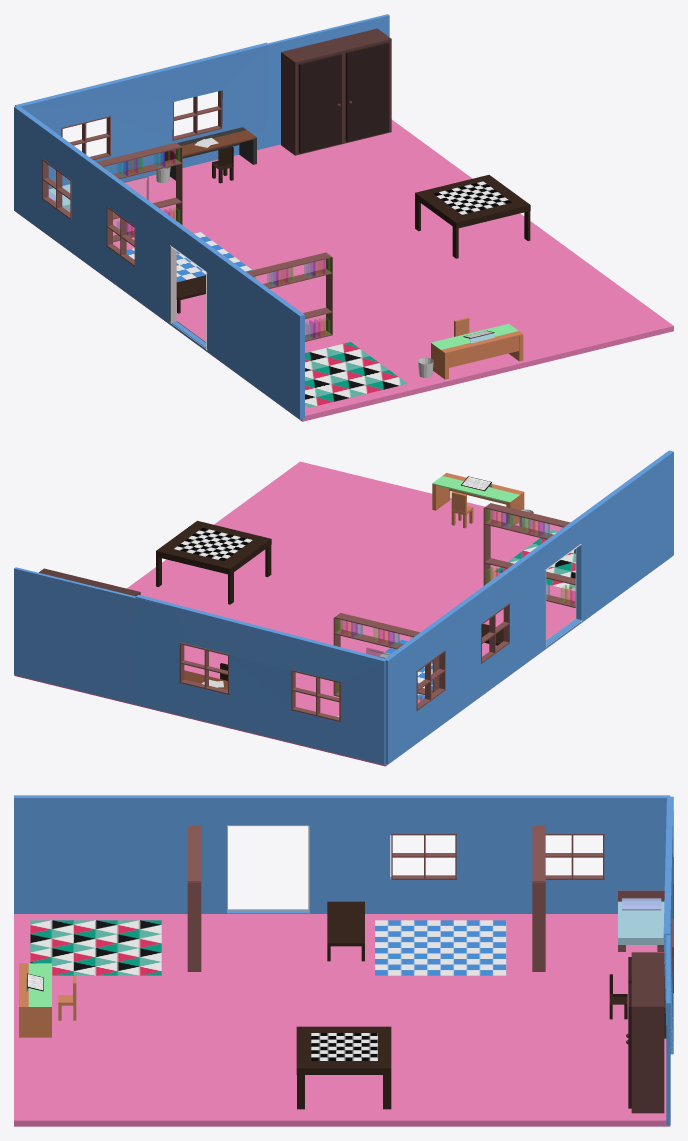
File: Room.glb
3 views of the same model, one above another, from view 1: azimuth 30°, elevation 25°; view 2: azimuth 150°, elevation 25°; view 3: azimuth 270°, elevation 25° (orthographic). The views are drawn at different scales.
Parts seen in each view (by area): view 1: Floor, Wall, Closet, Carpet2, Windows, Wall_expand, Big_table, Desk2, Stall.2, Stall, Desk, Chess (+5 smaller); view 2: Wall, Floor, Wall_expand, Windows, Big_table, Stall.2, Desk2, Stall, Chess, Carpet2, Books_up, Books_up.2 (+4 smaller); view 3: Floor, Wall, Carpet, Carpet2, Closet, Big_table, Bed, Desk2, Windows, Stall.2, Stall, Chess (+3 smaller).
Part boxes in pixels (box(x1,y1,x2,y2)): Floor: box(17, 119, 673, 421); Wall: box(14, 42, 304, 419); Closet: box(281, 28, 391, 155); Carpet2: box(305, 342, 407, 407); Windows: box(42, 90, 222, 266); Wall_expand: box(228, 14, 389, 155); Big_table: box(415, 175, 530, 258); Desk2: box(431, 323, 523, 379); Stall.2: box(246, 252, 332, 341); Stall: box(96, 142, 182, 242); Desk: box(164, 127, 256, 180); Chess: box(433, 181, 511, 214); Wall: box(135, 450, 673, 764); Floor: box(14, 461, 671, 766); Wall_expand: box(14, 567, 174, 713); Windows: box(179, 603, 509, 722); Big_table: box(156, 520, 271, 604); Stall.2: box(483, 503, 575, 607); Desk2: box(432, 473, 524, 524); Stall: box(333, 613, 439, 696); Chess: box(174, 528, 252, 561); Carpet2: box(495, 530, 575, 590); Books_up: box(336, 619, 412, 646); Books_up.2: box(486, 509, 562, 536); Floor: box(14, 914, 670, 1126); Wall: box(14, 795, 673, 1054); Carpet: box(375, 920, 506, 975); Carpet2: box(30, 920, 161, 975); Closet: box(626, 952, 664, 1113); Big_table: box(296, 1026, 391, 1109); Bed: box(618, 890, 664, 951); Desk2: box(19, 963, 51, 1037); Windows: box(391, 833, 673, 992); Stall.2: box(187, 825, 201, 971); Stall: box(532, 825, 545, 971); Chess: box(311, 1033, 377, 1060).
Size of what is drawn, in the model's own units: 30.26 by 8.4 by 40.23.
37 materials, 5 textured.
